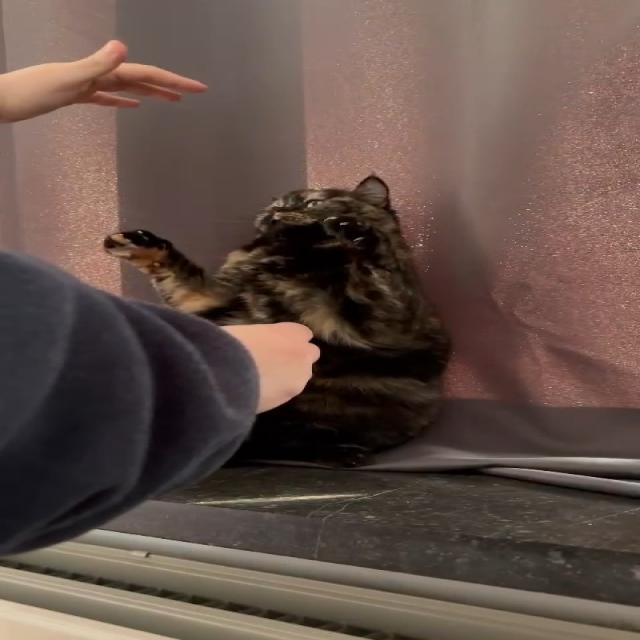authorized: (101, 173, 454, 469)
